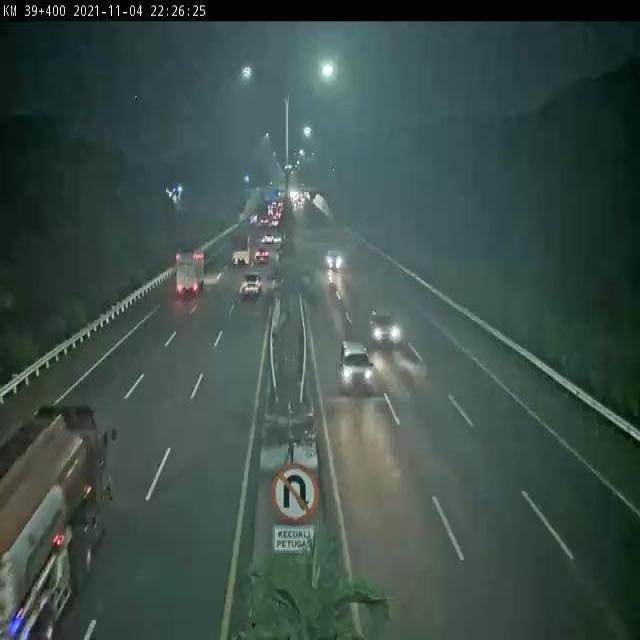Car: (337, 342, 376, 398), (366, 310, 403, 346), (325, 251, 343, 268), (254, 247, 271, 265)
Truck: (0, 402, 120, 640), (175, 250, 203, 295), (229, 232, 251, 268), (238, 270, 262, 300)
